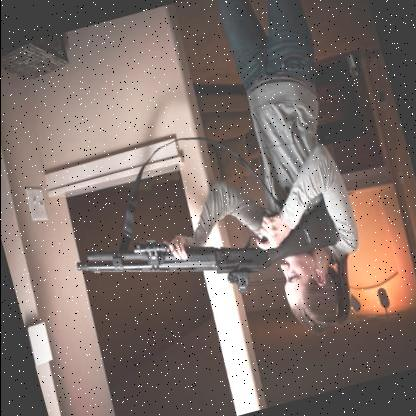rifle: (64, 169, 349, 336)
